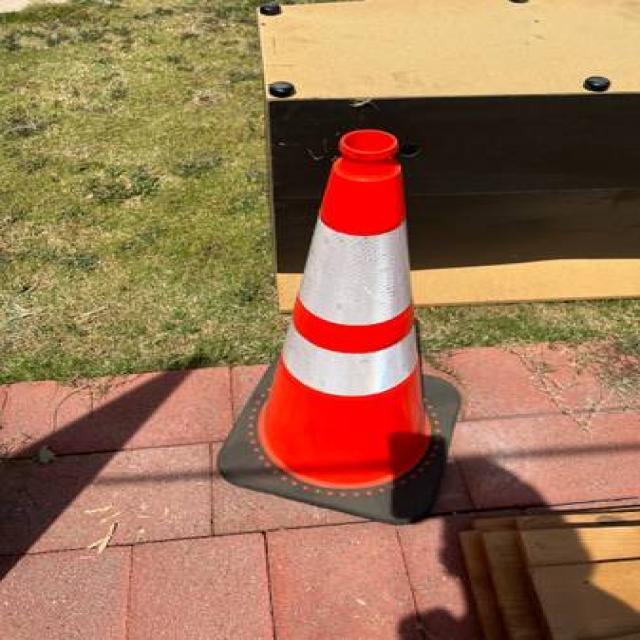Traffic Cone: (192, 115, 518, 553)
